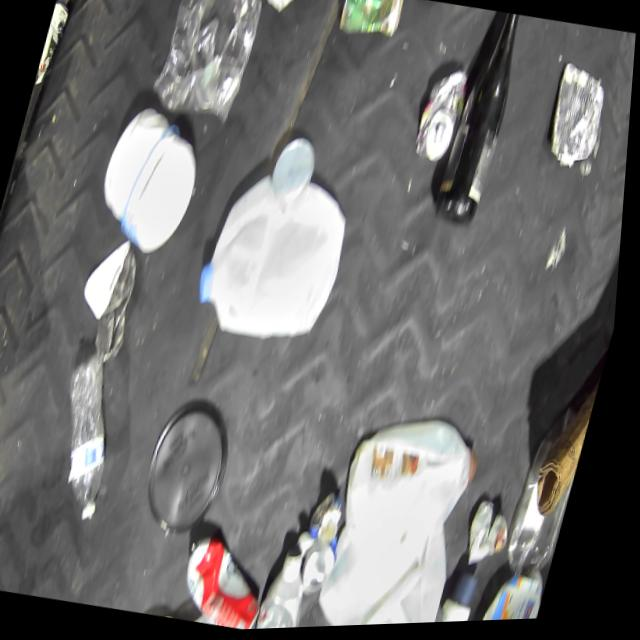can: (178, 527, 288, 634), (538, 61, 618, 180), (408, 66, 475, 169), (299, 489, 361, 598), (331, 0, 408, 49), (33, 0, 72, 93)
milk_jug: (188, 162, 364, 356), (333, 405, 498, 587), (316, 501, 473, 630)
plastic_bottle: (39, 347, 145, 528)
